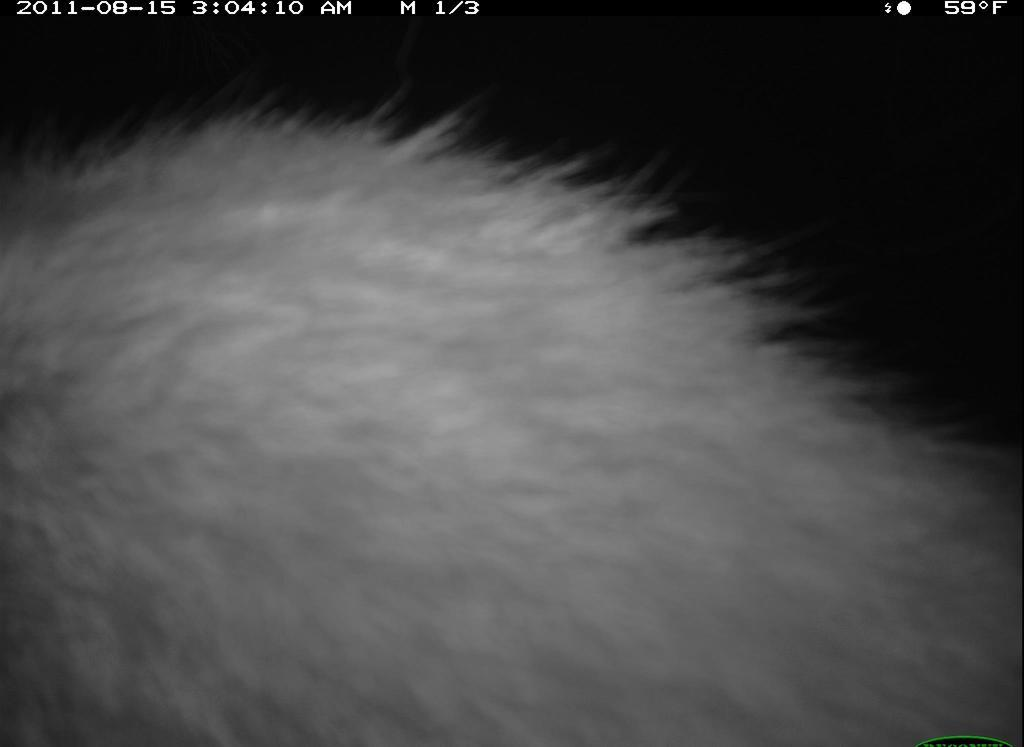raccoon: (8, 105, 1019, 745)
